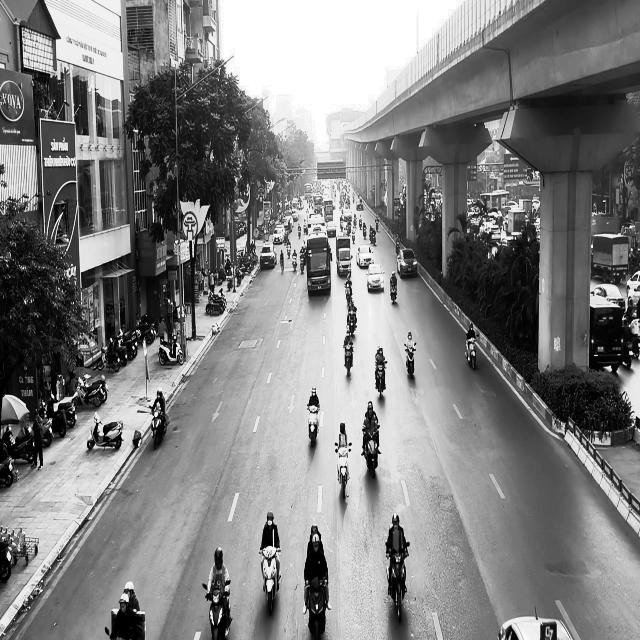bus: (306, 232, 331, 295)
car: (397, 248, 418, 278), (366, 263, 384, 292), (259, 243, 277, 269), (356, 245, 374, 267)
motorbike: (385, 542, 409, 622), (202, 581, 232, 639), (259, 546, 281, 616), (304, 576, 328, 639), (87, 412, 123, 450), (148, 404, 169, 449), (362, 426, 380, 478), (335, 442, 351, 499), (158, 334, 184, 365), (306, 403, 320, 447), (465, 333, 478, 370), (374, 362, 387, 398), (404, 342, 416, 378), (344, 338, 354, 377), (390, 278, 397, 303)
